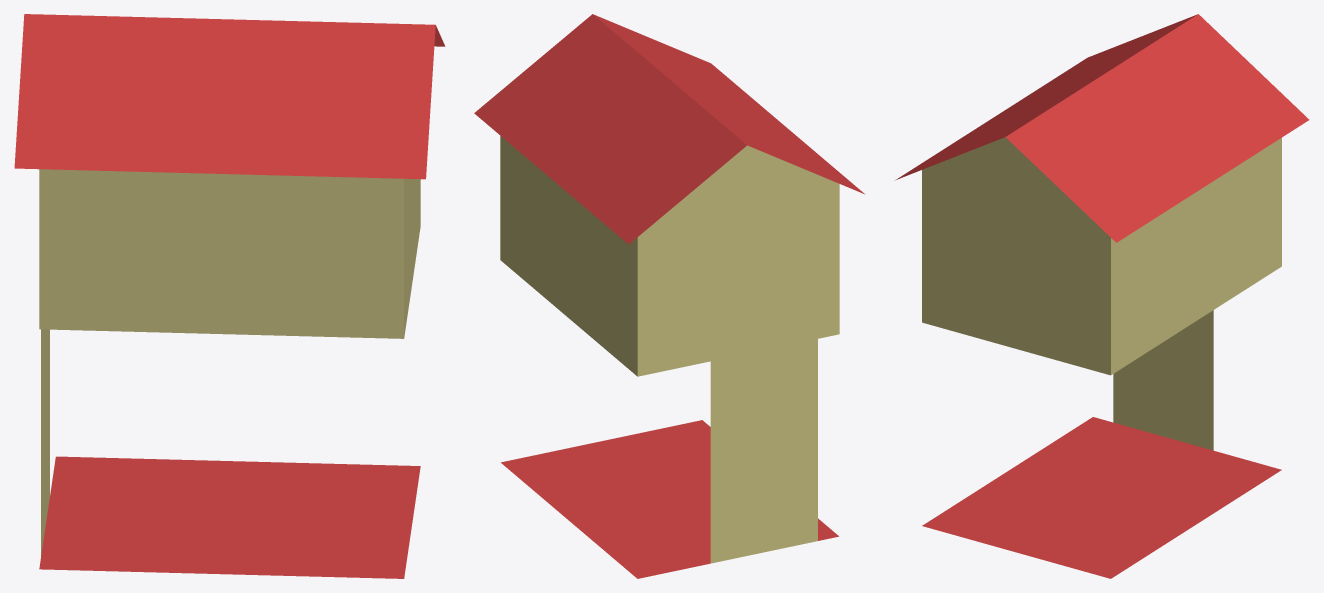
3 renders of one model, left to right at view 1: azimuth 30°, elevation 25°; view 2: azimuth 150°, elevation 25°; view 3: azimuth 270°, elevation 25°, orthographic. The views are drawn at different scales.
Parts seen in each view (by area): view 1: group_5, group_3, group_6, group_4; view 2: group_5, group_3, group_6, group_4; view 3: group_5, group_3, group_6, group_4.
Part boxes in pixels (left/top/right/bottom): group_5: left=39, top=169, right=420, bottom=556; group_3: left=14, top=14, right=445, bottom=179; group_6: left=39, top=456, right=420, bottom=578; group_4: left=14, top=15, right=435, bottom=179; group_5: left=500, top=136, right=839, bottom=563; group_3: left=501, top=14, right=838, bottom=244; group_6: left=501, top=420, right=838, bottom=578; group_4: left=474, top=14, right=865, bottom=243; group_5: left=922, top=137, right=1281, bottom=450; group_3: left=923, top=14, right=1281, bottom=239; group_6: left=922, top=417, right=1281, bottom=578; group_4: left=895, top=14, right=1309, bottom=242.
Size of the model in its own units: 16.61 by 15.73 by 17.65.
